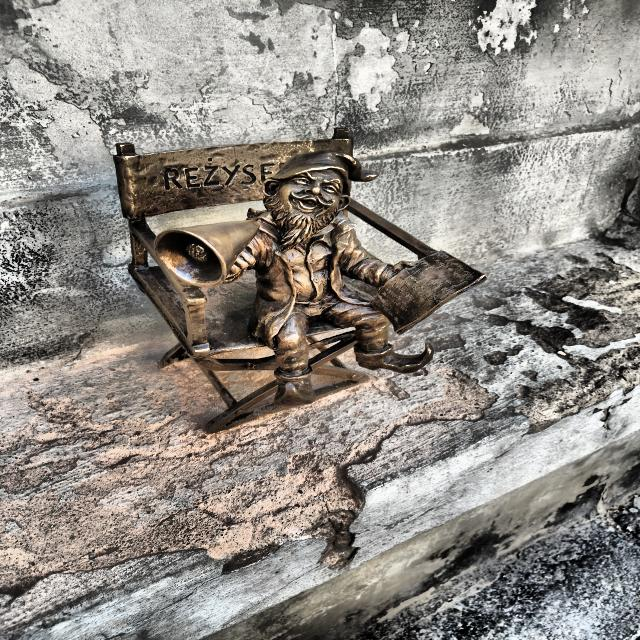Rezyser: (113, 129, 483, 432)
